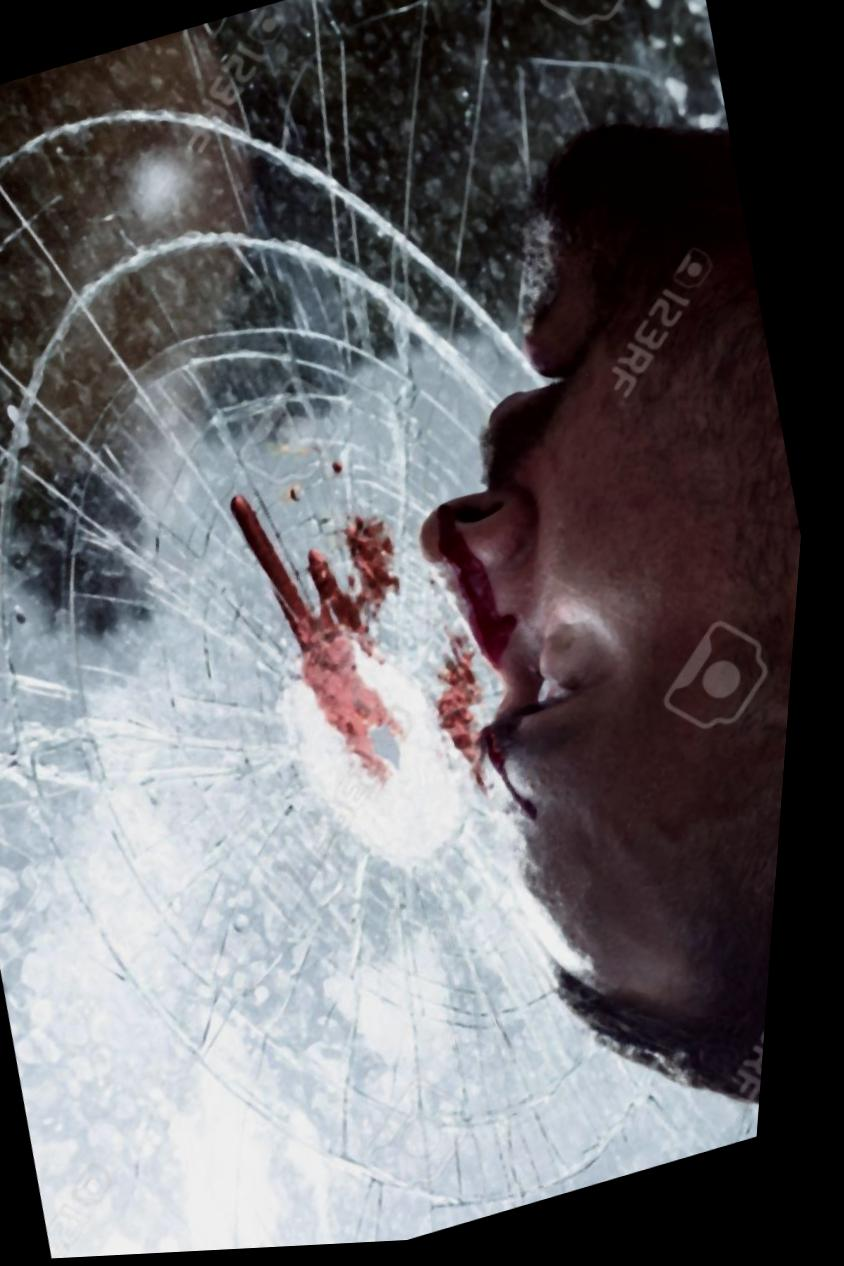Fire: (237, 498, 418, 791), (446, 511, 526, 675), (448, 661, 500, 804)
